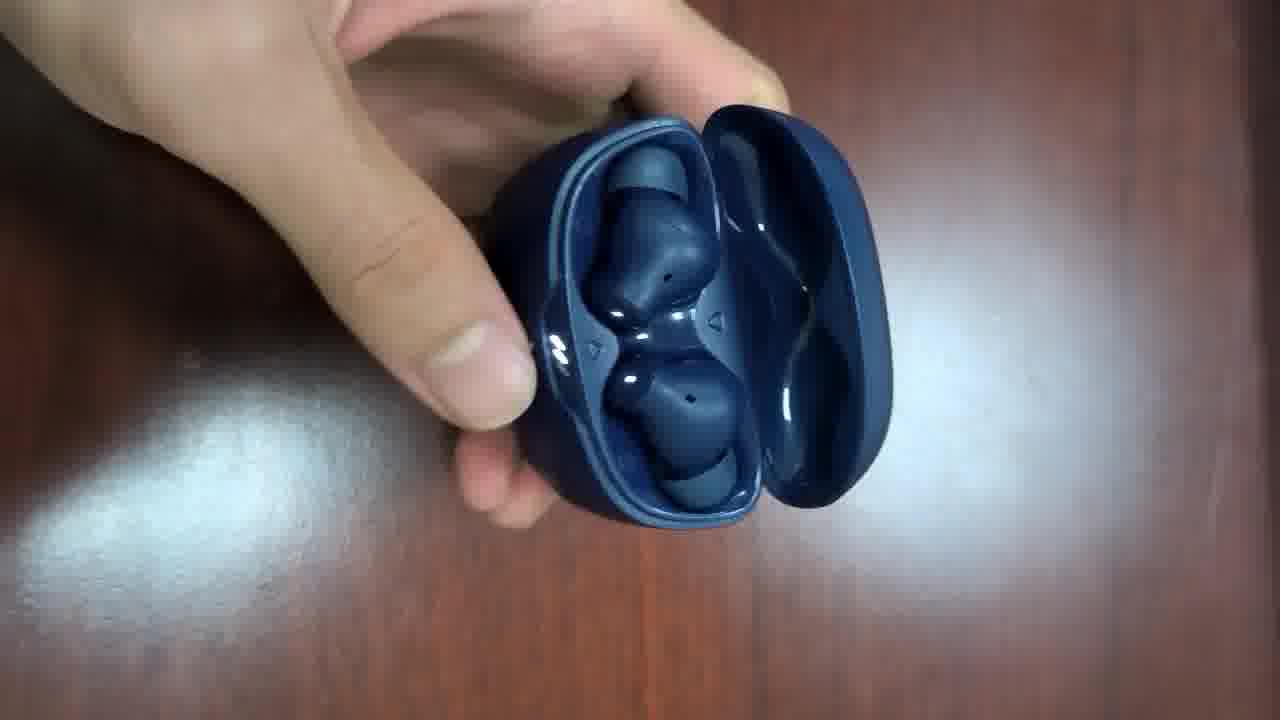Case: (488, 105, 892, 527)
Earbud: (586, 146, 720, 328), (605, 353, 743, 504)
